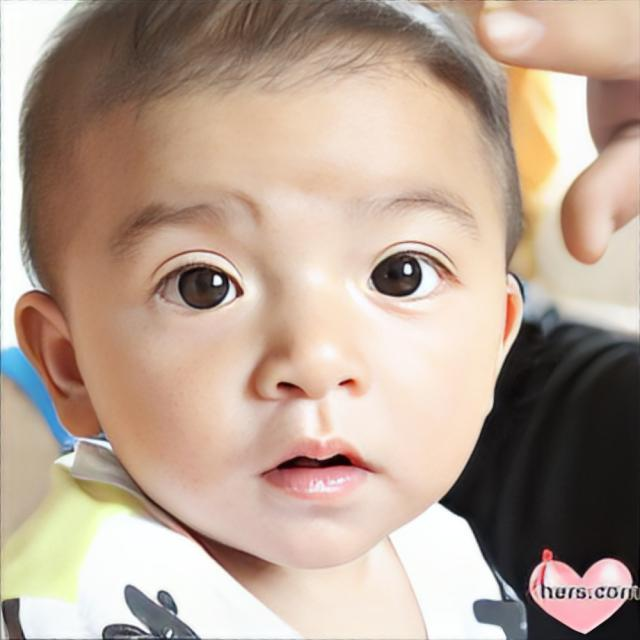surprise: (66, 65, 506, 572)
